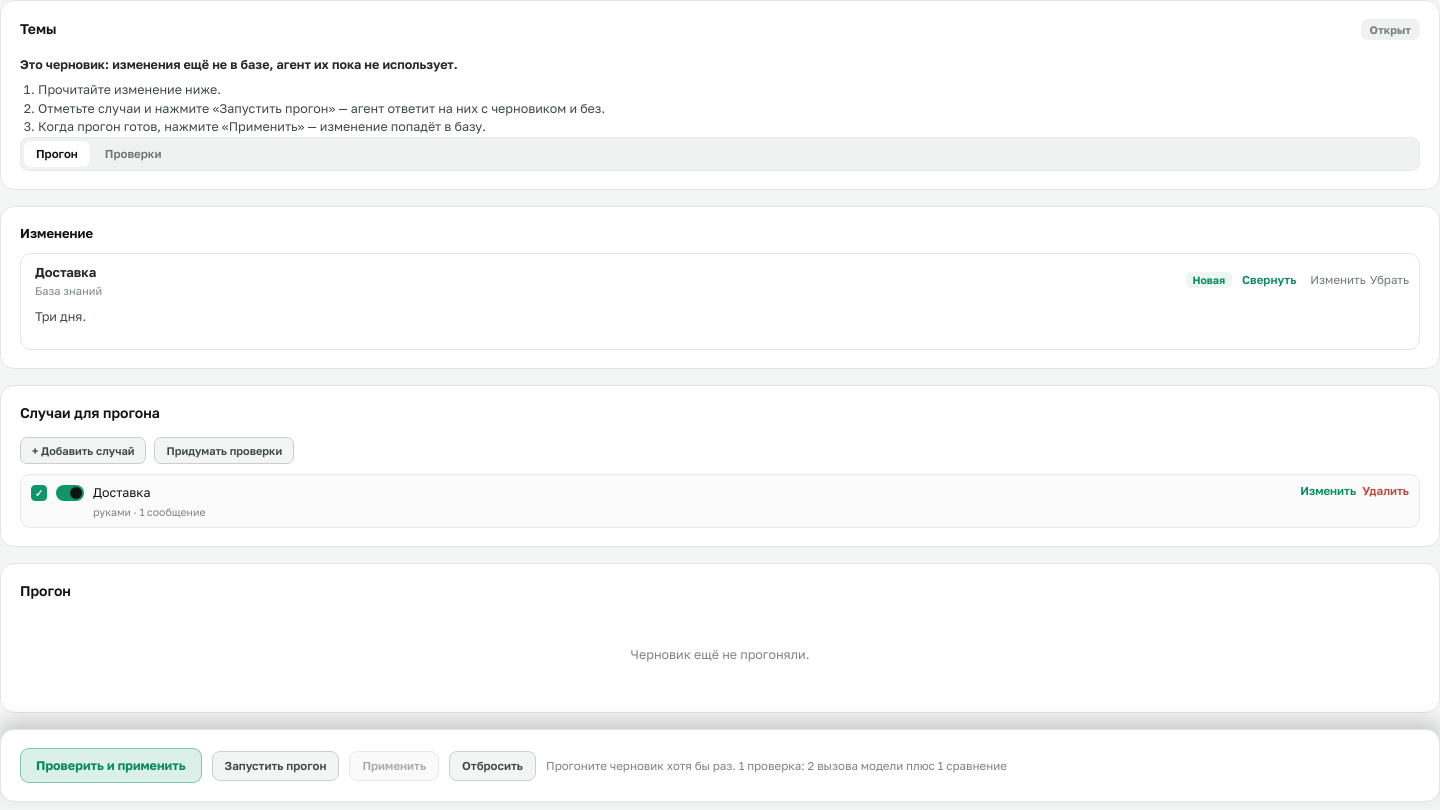
Scenario: starts the autopilot with the ticked cases and locks the manual controls while it runs
The width and height of the screenshot is (1440, 810).
expect the button "Запустить прогон" is enabled: met, box x1=212 y1=751 x2=339 y2=781
Click the button "Проверить и применить" at (111, 766), box x1=20 y1=748 x2=202 y2=783
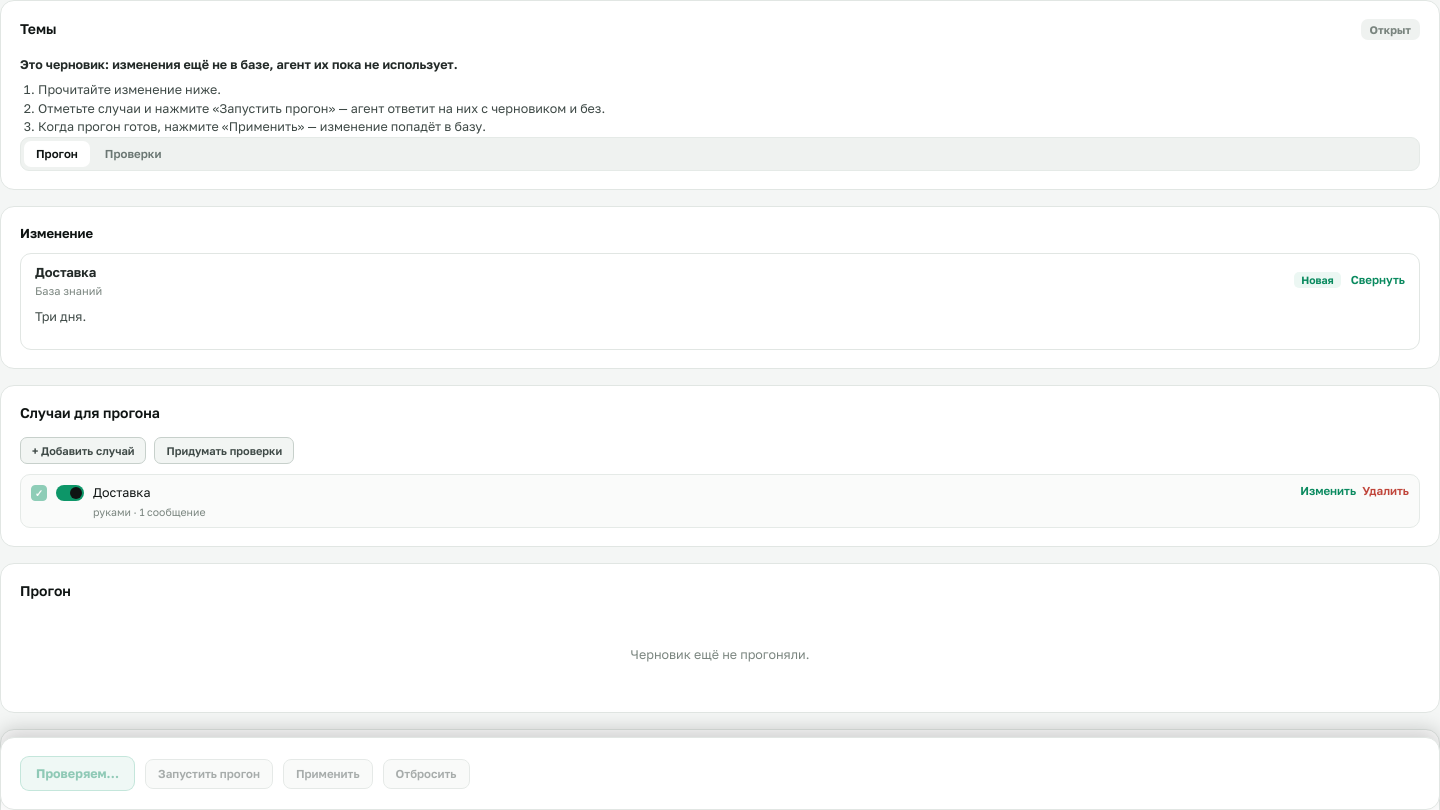
expect the text "Идёт: подбираем проверки" is shown: met, box x1=20 y1=794 x2=197 y2=809
expect the button "Проверяем…" is disabled: met, box x1=20 y1=756 x2=135 y2=791
expect the button "Запустить прогон" is disabled: met, box x1=145 y1=758 x2=273 y2=788
